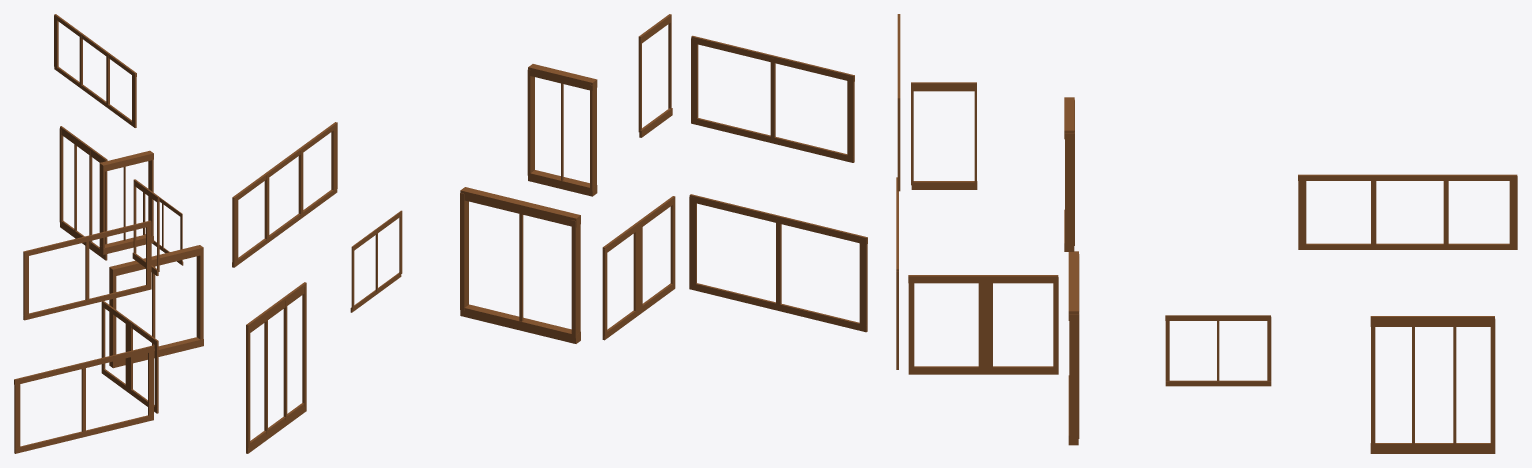
File: ventanas.obj
The picture shows the model from 3 angles, left to right: view 1: azimuth 30°, elevation 25°; view 2: azimuth 150°, elevation 25°; view 3: azimuth 270°, elevation 25°; orthographic projection. The views are drawn at different scales.
Parts seen in each view (by area): view 1: polySurface259; view 2: polySurface259; view 3: polySurface259.
Part boxes in pixels (left/top/right/bottom): polySurface259: left=14, top=14, right=203, bottom=453; polySurface259: left=232, top=14, right=867, bottom=453; polySurface259: left=896, top=14, right=1517, bottom=453.
Bounding box in the file's own units: 11.09 × 8.5 × 16.29.
